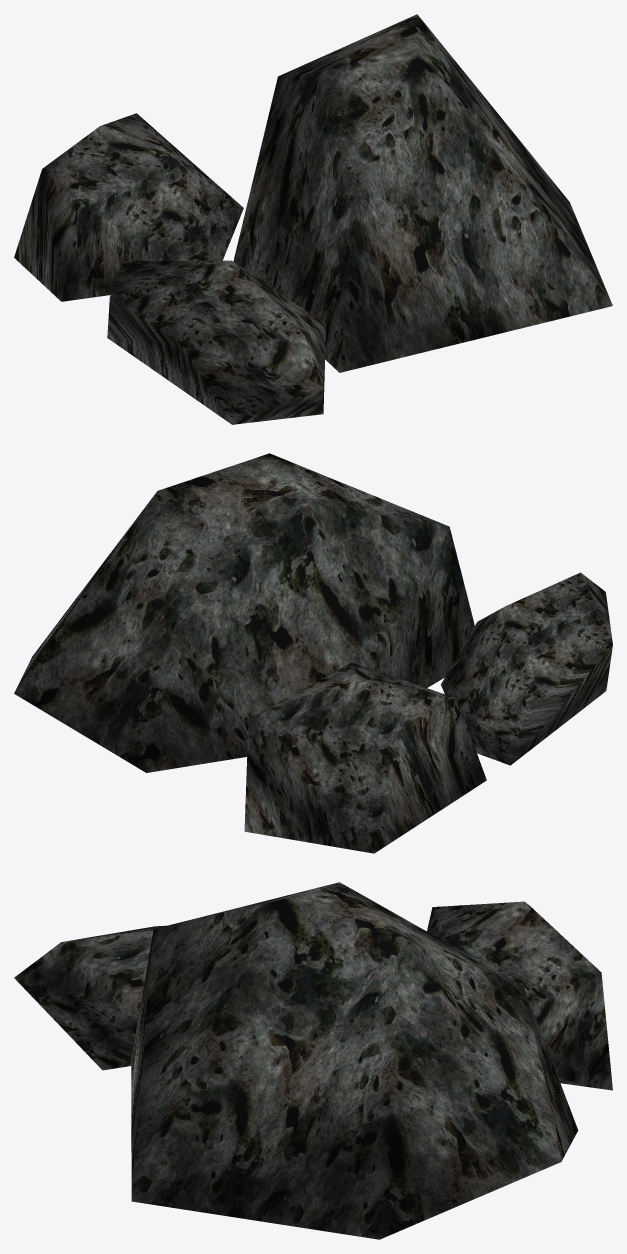
The model's file is rock_scorched_small_l3.fbx.
3 renders of one model, top to bottom at view 1: azimuth 30°, elevation 25°; view 2: azimuth 150°, elevation 25°; view 3: azimuth 270°, elevation 25°, orthographic. The views are drawn at different scales.
Parts seen in each view (by area): view 1: mesh_node; view 2: mesh_node; view 3: mesh_node.
Part boxes in pixels (box(x1,y1,x2,y2)): mesh_node: box(14, 14, 612, 424); mesh_node: box(14, 453, 612, 853); mesh_node: box(14, 882, 612, 1239).
Size of the model in its own units: 2.19 by 1.05 by 2.17.
1 material, 1 textured.
